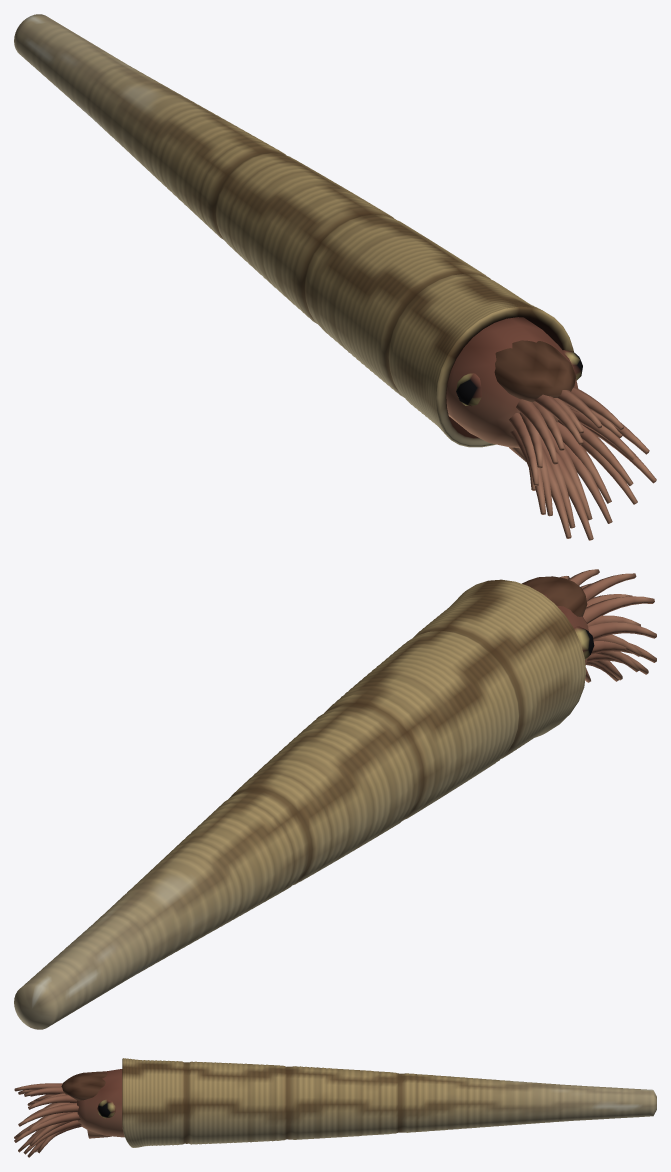
The model's file is Cameroceras.fbx.
3 renders of one model, top to bottom at view 1: azimuth 30°, elevation 25°; view 2: azimuth 150°, elevation 25°; view 3: azimuth 270°, elevation 25°, orthographic. The views are drawn at different scales.
Parts seen in each view (by area): view 1: Cameroceras; view 2: Cameroceras; view 3: Cameroceras.
Part boxes in pixels (x1,y1,x2,y2): Cameroceras: (14, 14, 656, 540); Cameroceras: (14, 569, 656, 1029); Cameroceras: (14, 1058, 656, 1157).
Bounding box in the file's own units: 0.3119 × 0.3511 × 2.22.
